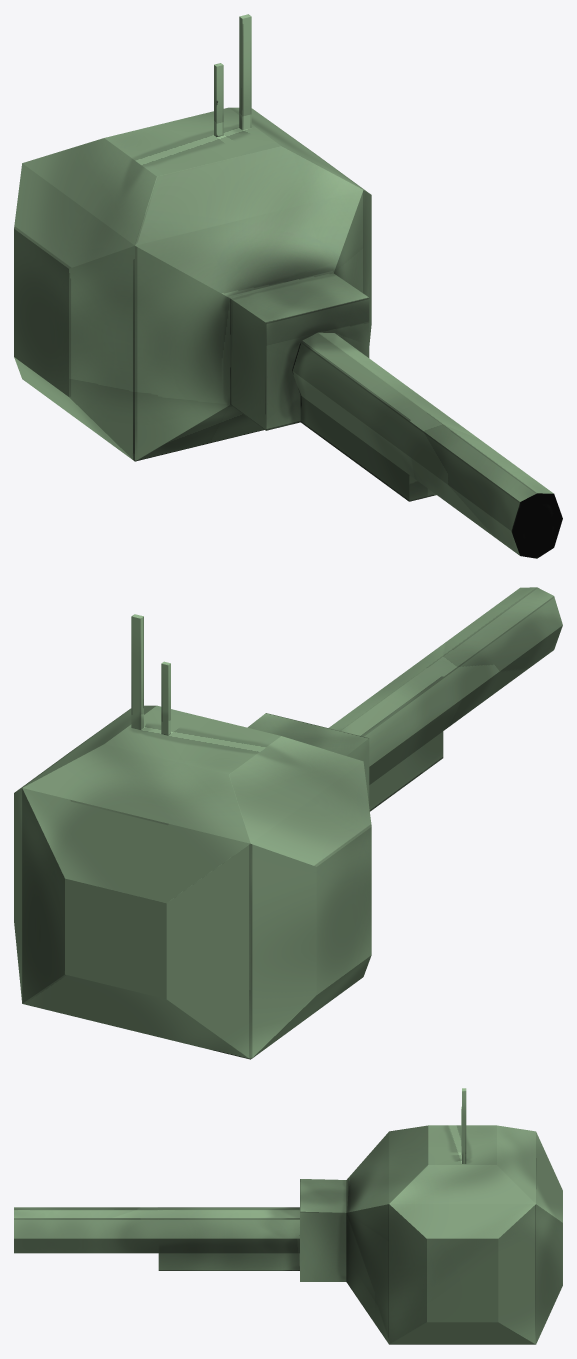
The model's file is machinegunpkt.fbx.
3 views of the same model, one above another, from view 1: azimuth 30°, elevation 25°; view 2: azimuth 150°, elevation 25°; view 3: azimuth 270°, elevation 25° (orthographic). The views are drawn at different scales.
Visible parts, largest first — view 1: Machinegunpkt; view 2: Machinegunpkt; view 3: Machinegunpkt.
Part boxes in pixels (bbox=[...]): Machinegunpkt: bbox=[14, 14, 562, 558]; Machinegunpkt: bbox=[14, 587, 562, 1059]; Machinegunpkt: bbox=[14, 1088, 562, 1344].
Size of the model in its own units: 174 by 420 by 199.
1 material, 1 textured.
